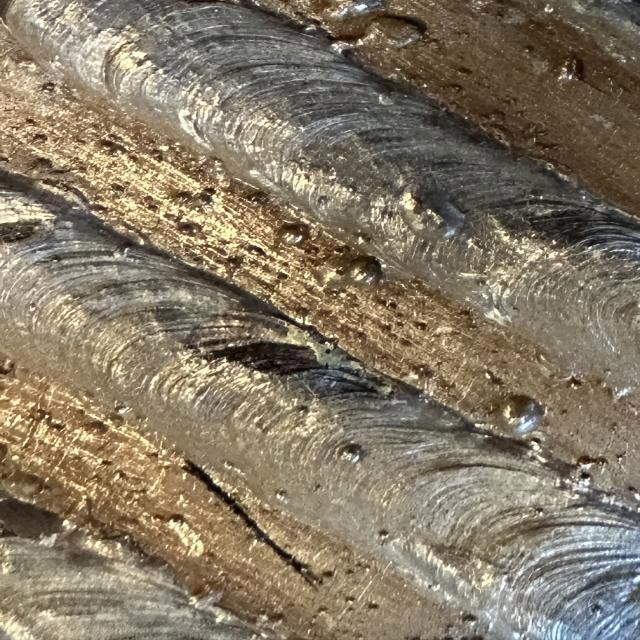Excess Reinforcement: (329, 15, 425, 56)
Spatters: (488, 394, 547, 436), (345, 259, 384, 289), (172, 188, 217, 209), (277, 222, 310, 245), (338, 444, 367, 464), (559, 58, 583, 80), (98, 139, 127, 154), (177, 221, 202, 236), (412, 365, 433, 379), (485, 370, 503, 385), (413, 321, 428, 329)
